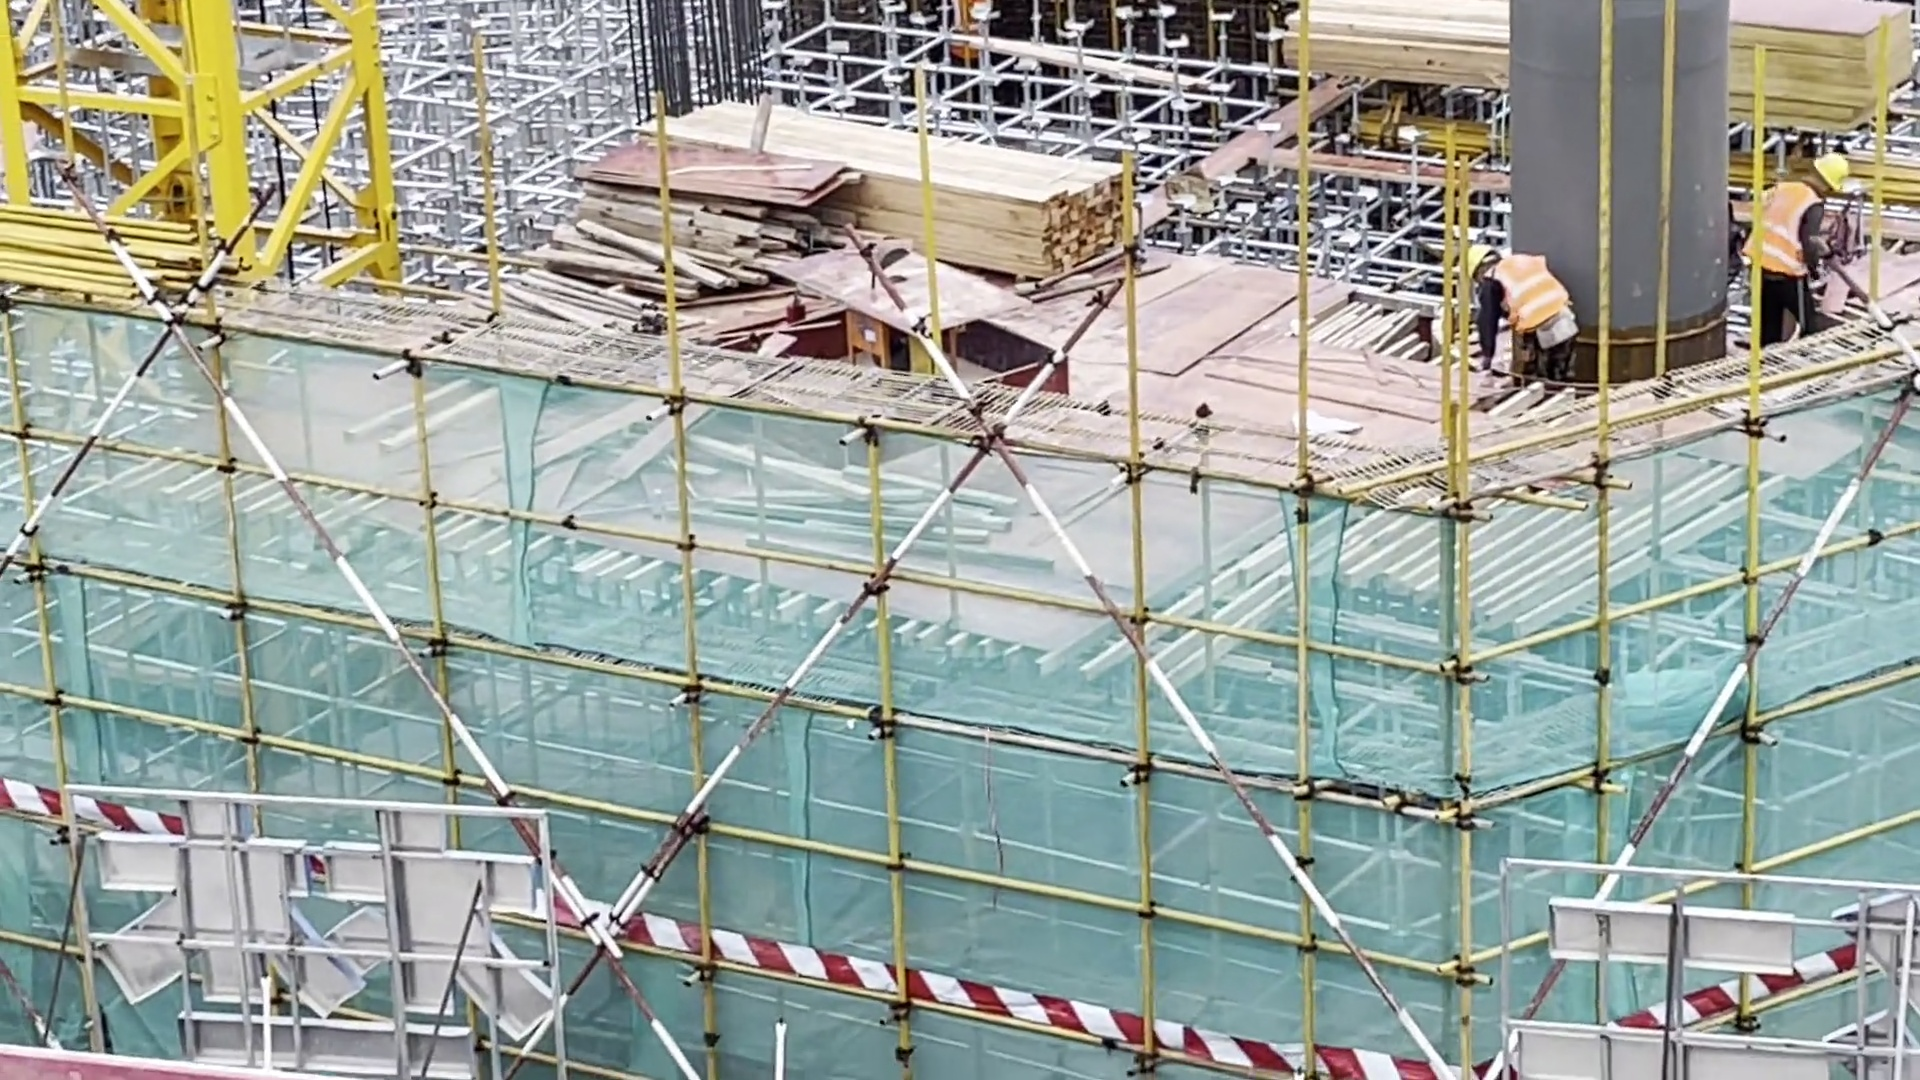helmet: (1803, 140, 1853, 203), (1462, 233, 1509, 271)
person: (1745, 148, 1867, 332), (1469, 238, 1583, 383)
vest: (1752, 178, 1825, 272), (1488, 267, 1579, 333)
